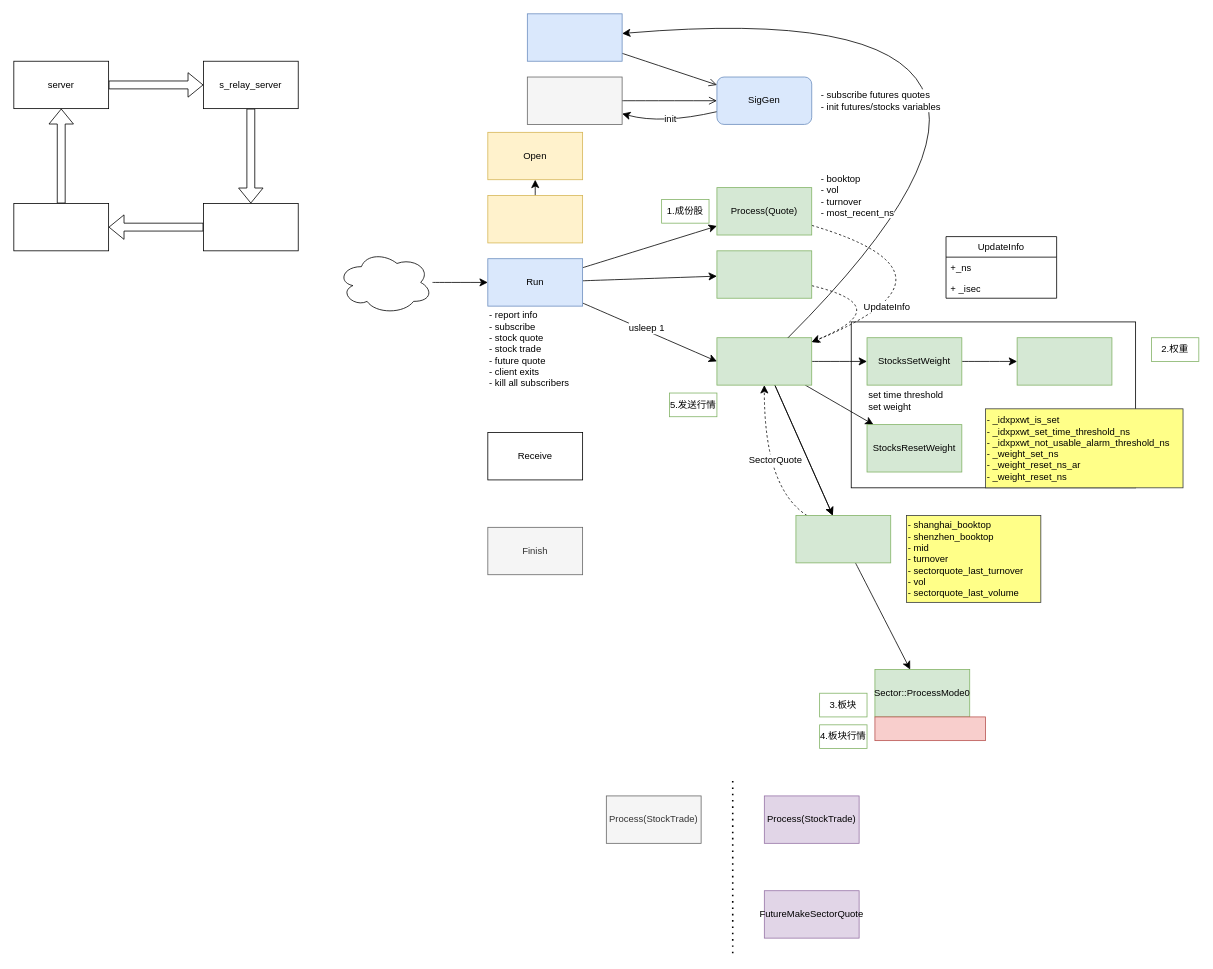
Image size: 1213x969. Some labels were removed from this diagram. The shapes that lost their labels are listed below. From the top down, each one's centre as x and y in pixels, then its label:
At (574,37): "SendSubscribers".
At (574,100): "SubscribeQuote".
At (61,227): "s_relay_client".
At (250,227): "clients".
At (535,219): "GenerateSignals".
At (385,282): "fifo".
At (764,274): "Process(StockQuote)".
At (764,361): "BackgroundProcess".
At (1064,361): "StocksMakeSectorQuoteInit".
At (843,539): "StockMakeSectorQuote (t_ns, isec, mid_px)".
At (930,728): "_delta_price_threshold".
